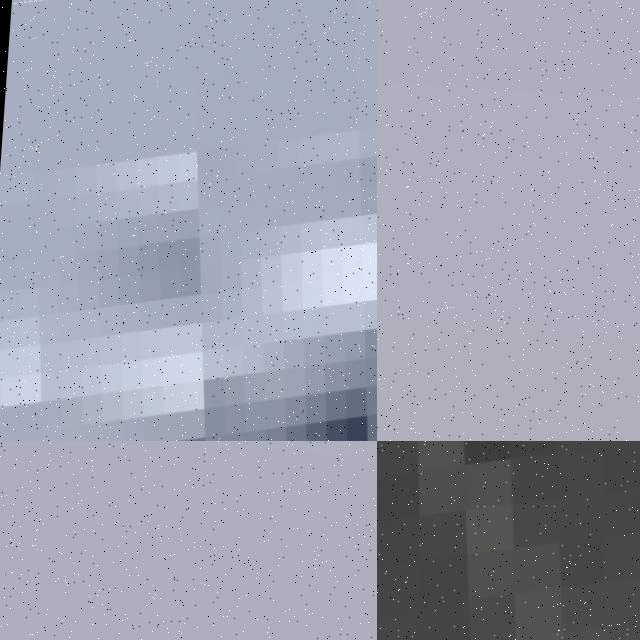drone: (0, 0, 377, 441), (377, 441, 640, 640)
